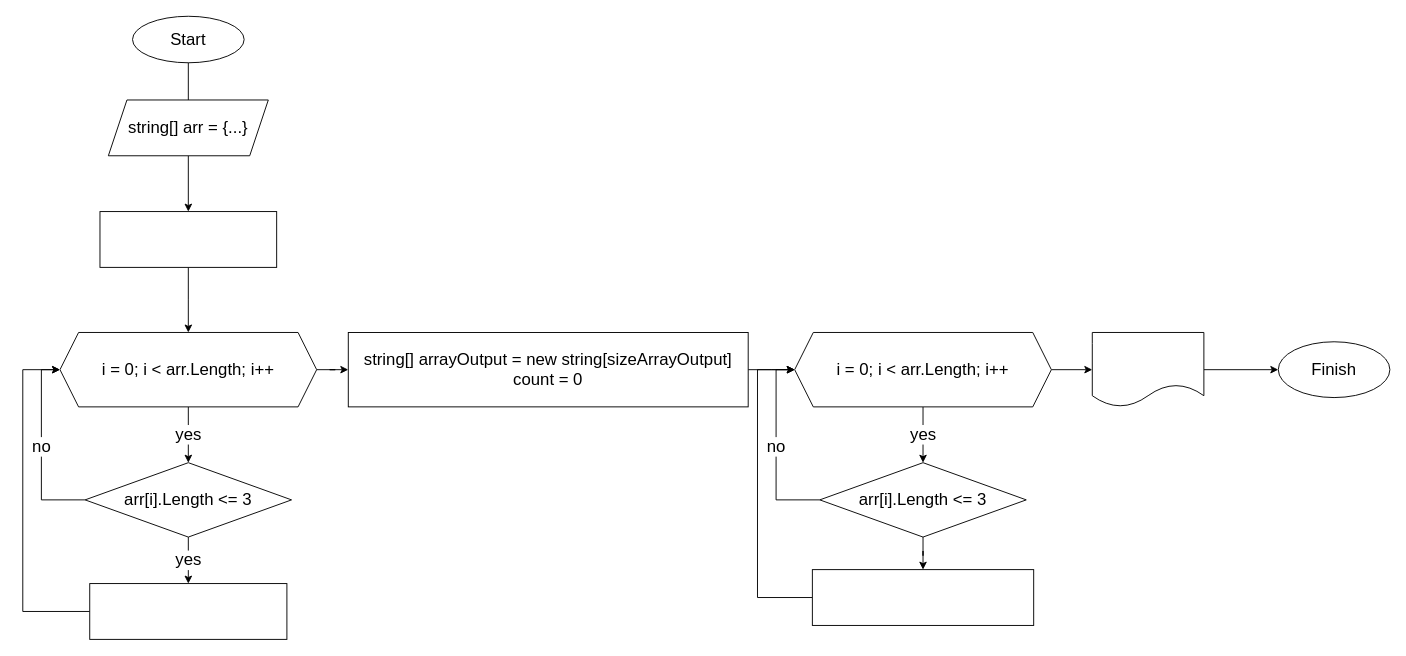
Image size: 1406x656. Some labels were removed from this diagram. Here are the shapes that lost their labels. From the top down, the centre of each, then its label:
At (188,239): "sizeArayOutput = 0".
At (1147,369): "arrayOutput".
At (188,611): "sizeArrayOutput += 1".
At (922,597): "arrayOutput[count] = arr[i] count++".
